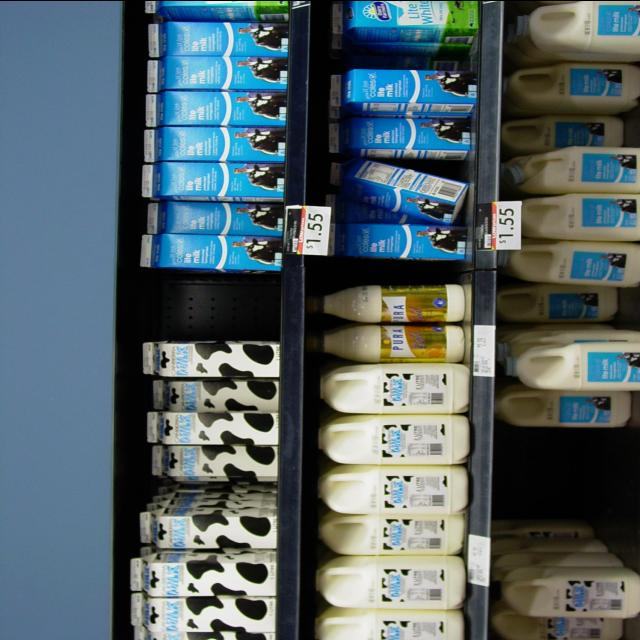empty_space: (504, 433, 624, 523), (156, 280, 271, 335)
